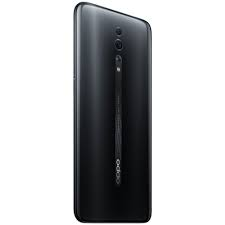oppo: (72, 1, 152, 223)
